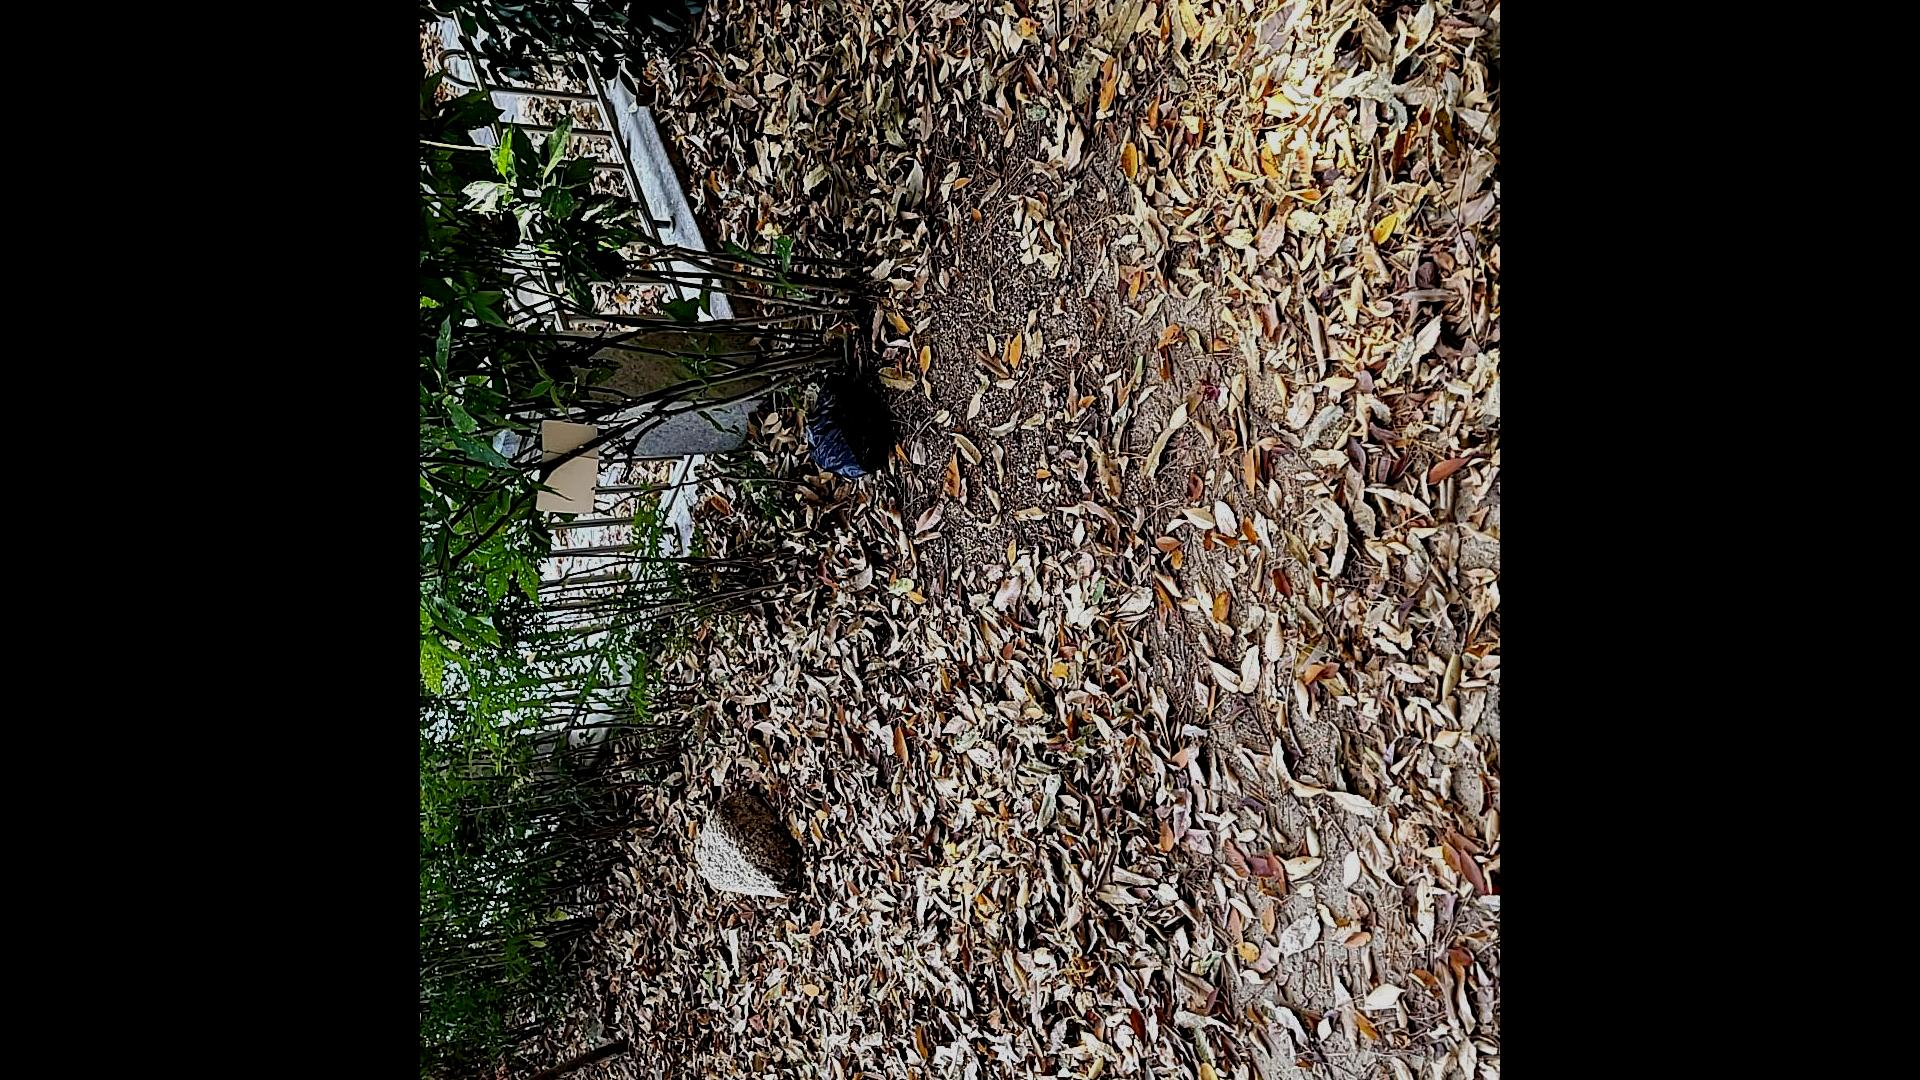black_bag: (800, 367, 899, 489)
